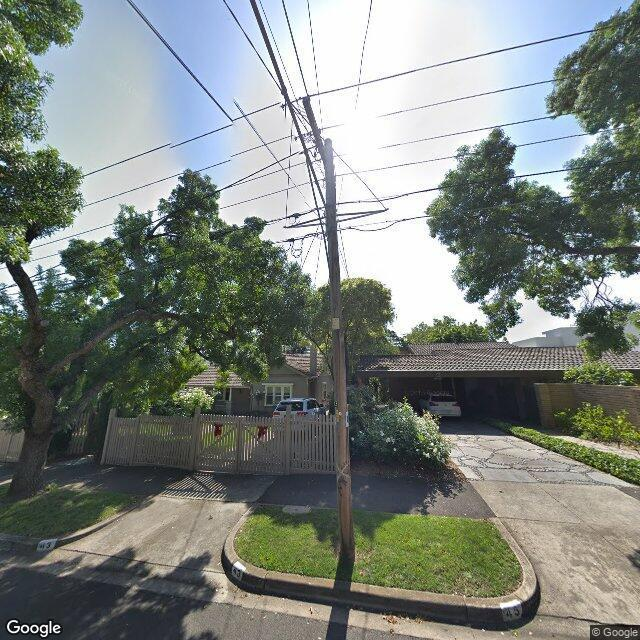crossarm: (303, 97, 325, 167)
streetlight: (249, 0, 334, 228)
timber-pole: (324, 138, 355, 559)
